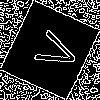V: (25, 25, 82, 75)
